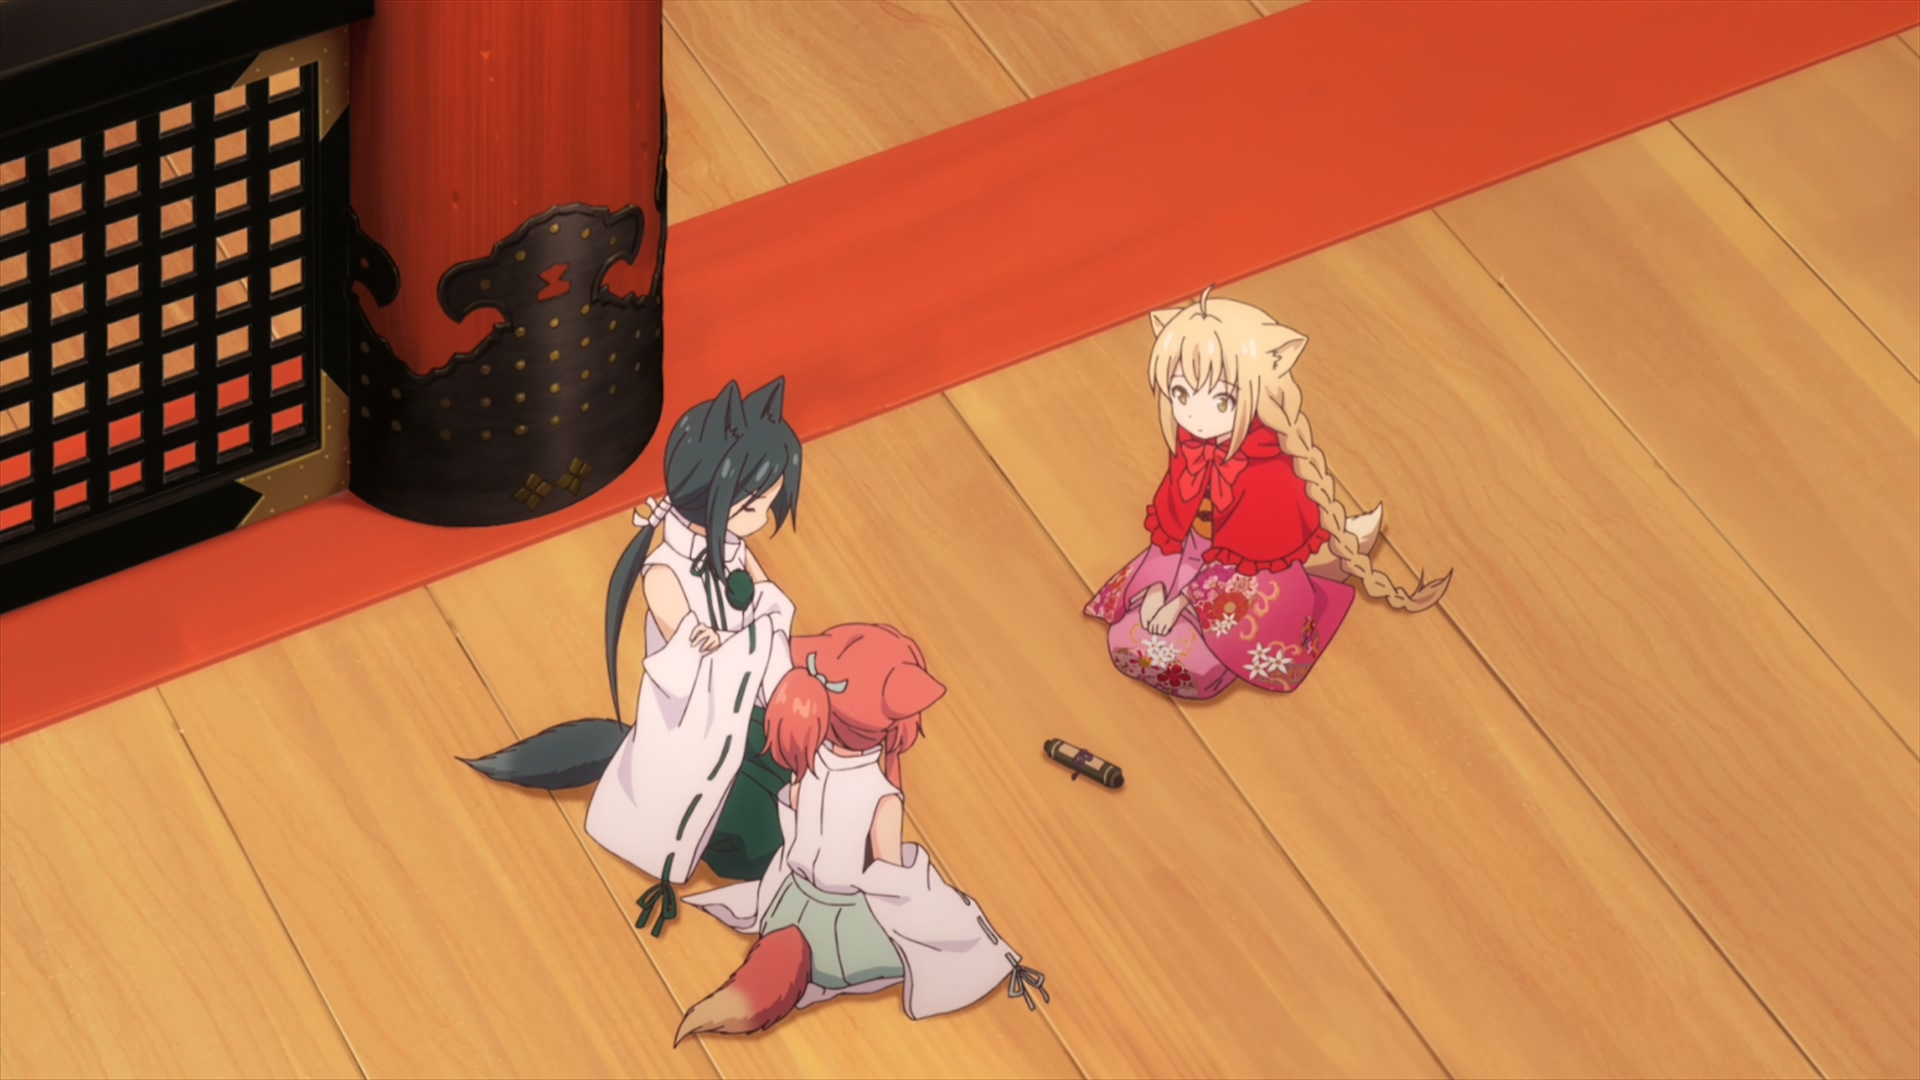其他: (456, 378, 804, 938)
柚: (1085, 286, 1455, 702)
椿: (675, 624, 1048, 1050)
